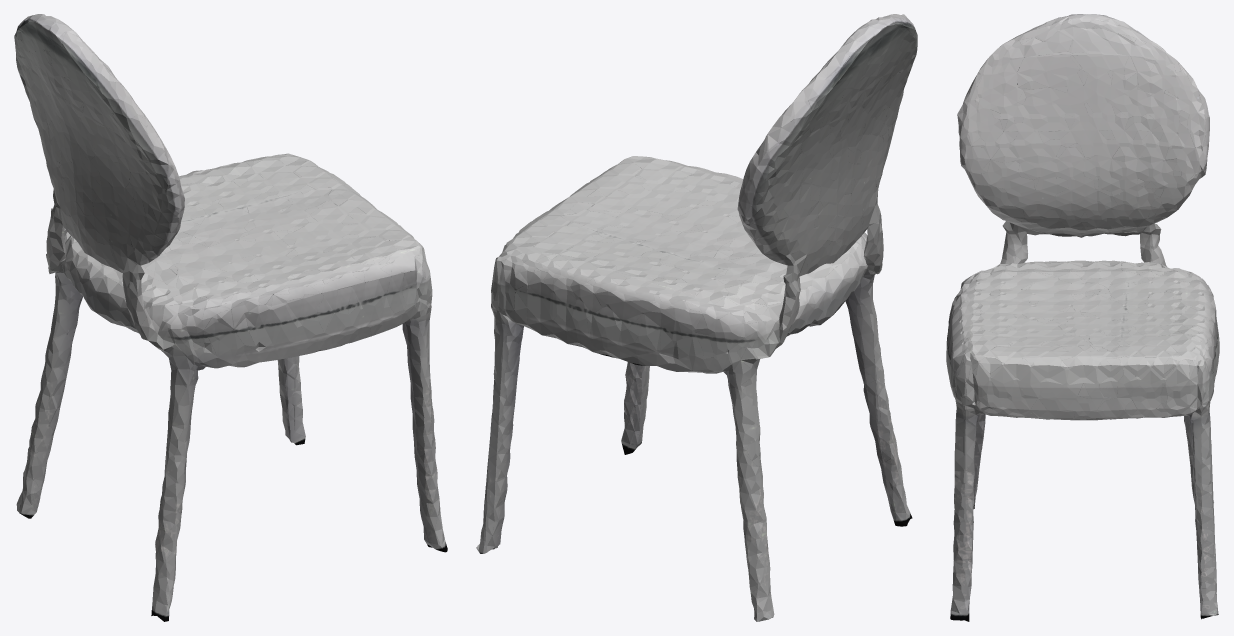
The model's file is elem_94_131_206_213_9_1.obj.
3 renders of one model, left to right at view 1: azimuth 30°, elevation 25°; view 2: azimuth 150°, elevation 25°; view 3: azimuth 270°, elevation 25°, orthographic. The views are drawn at different scales.
Size of the model in its own units: 0.4424 by 0.711 by 0.369.
1 material, 1 textured.
